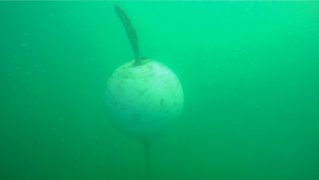buoy: (100, 58, 185, 141)
